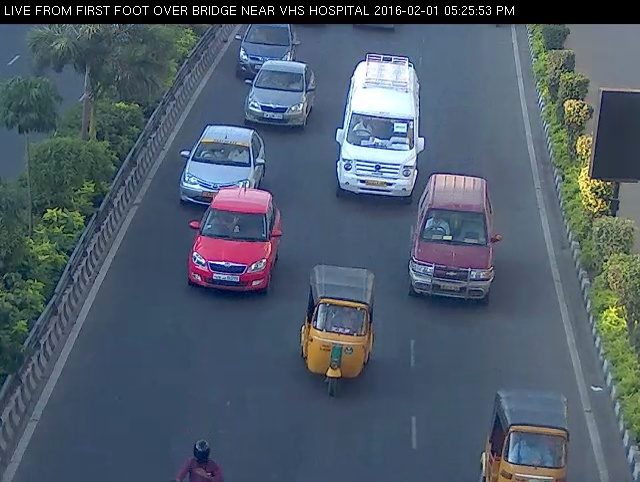Auto: (289, 251, 383, 406), (461, 377, 585, 480)
Bus: (326, 47, 431, 215)
Car: (399, 171, 510, 308), (175, 182, 288, 305), (166, 115, 276, 209), (239, 55, 318, 133), (227, 9, 304, 81), (226, 15, 305, 81)
